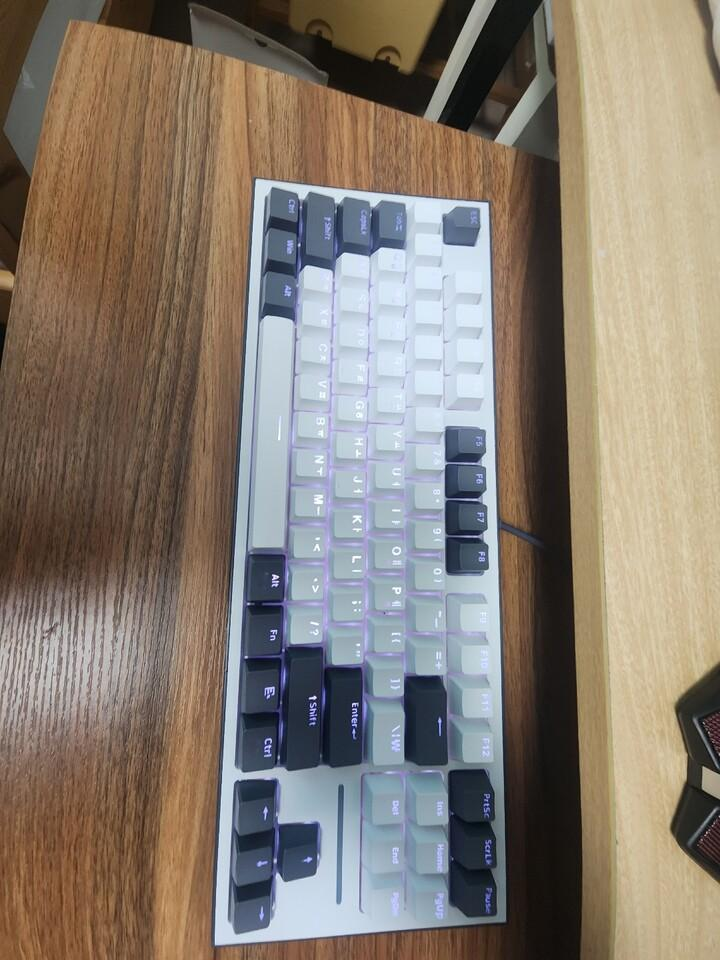keyboard: (211, 176, 508, 947)
